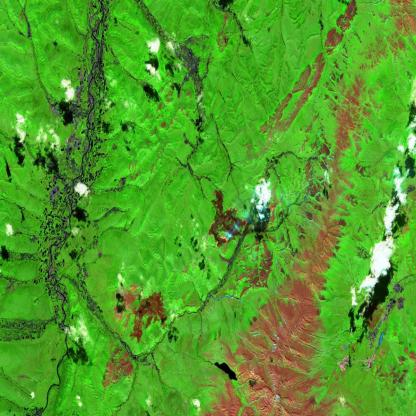fire: (207, 199, 250, 252)
